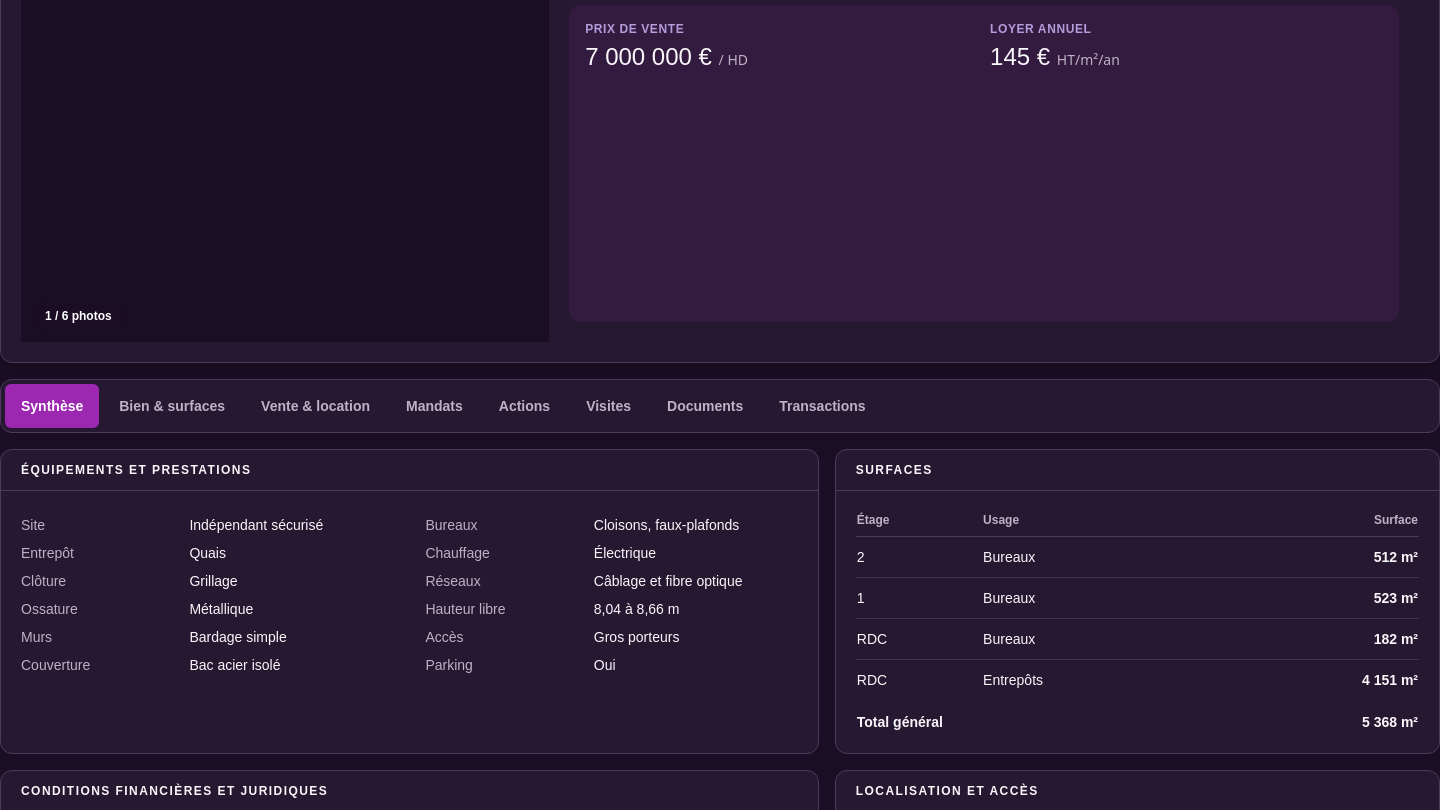
Scenario: les onglets ouvrent de nouvelles vues métier
The image size is (1440, 810).
(page scrolled)
Click the button "Actions": (524, 406) x1=483 y1=384 x2=566 y2=428
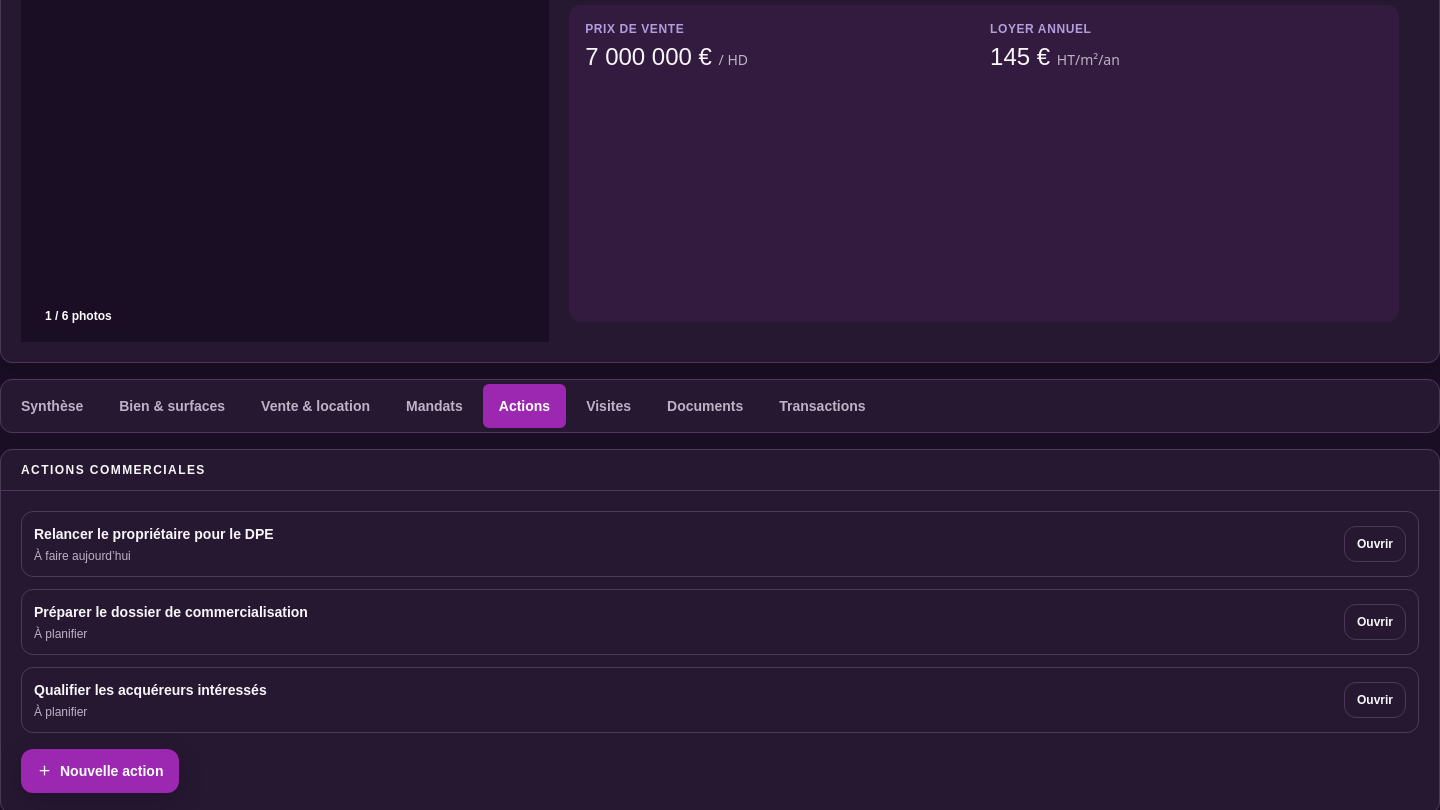
Now the heading "Actions commerciales" is shown, box x1=21 y1=463 x2=206 y2=477
Click the button "Documents": (705, 406) x1=651 y1=384 x2=759 y2=428
(page scrolled)
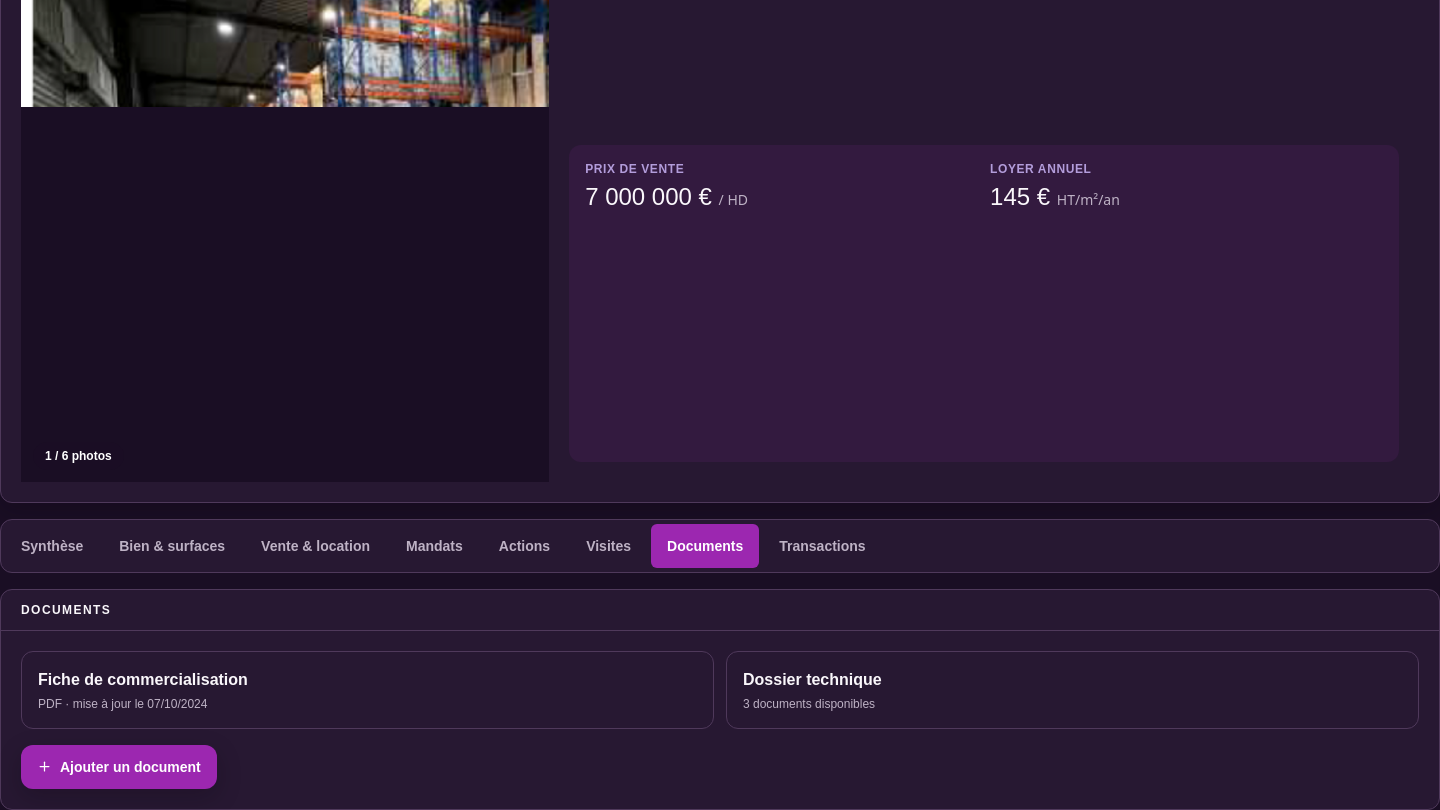
Now the heading "Documents" is shown, box x1=21 y1=603 x2=111 y2=617
Click the button "Transactions": (822, 546) x1=763 y1=524 x2=882 y2=568
(page scrolled)
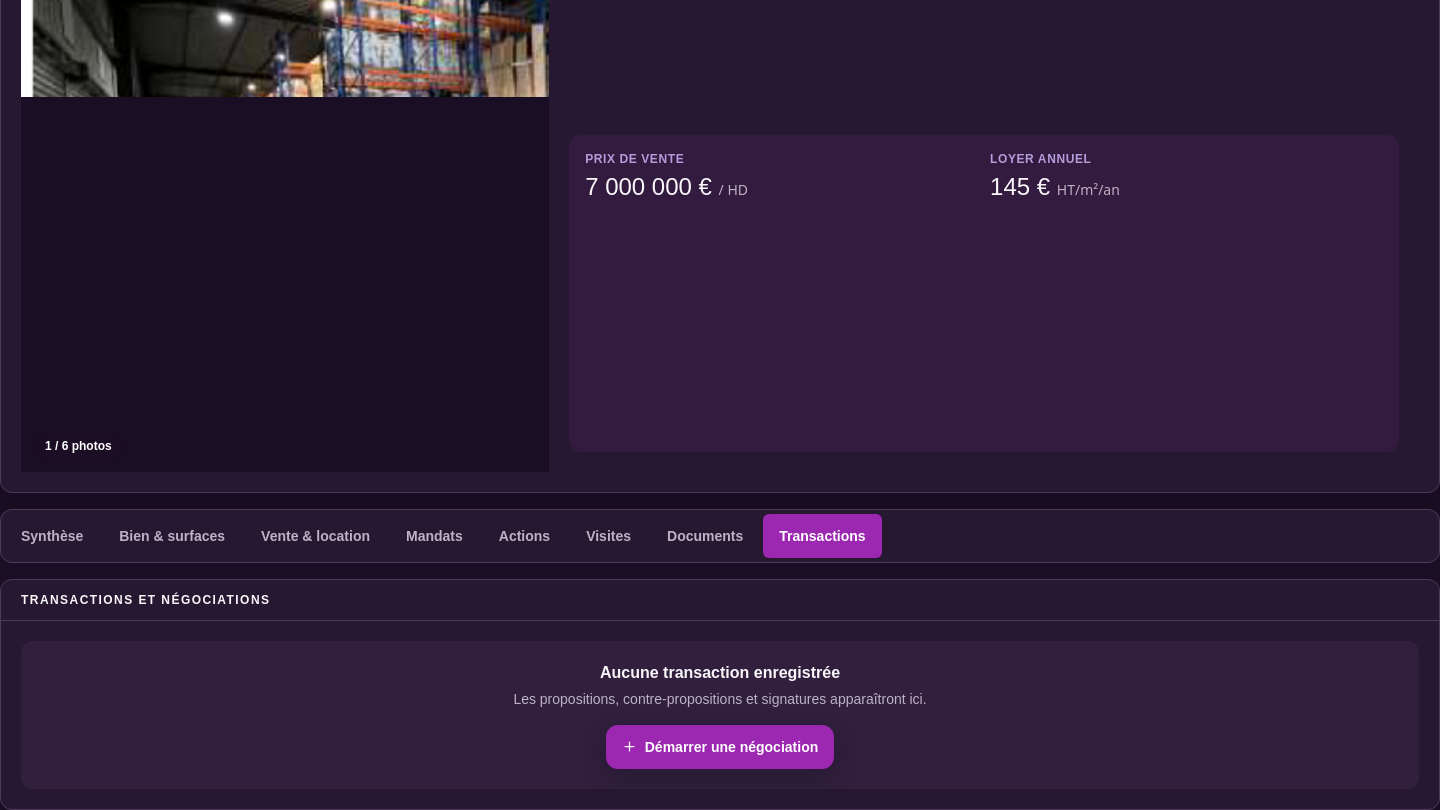
Now the heading "Transactions et négociations" is shown, box x1=21 y1=593 x2=270 y2=607
